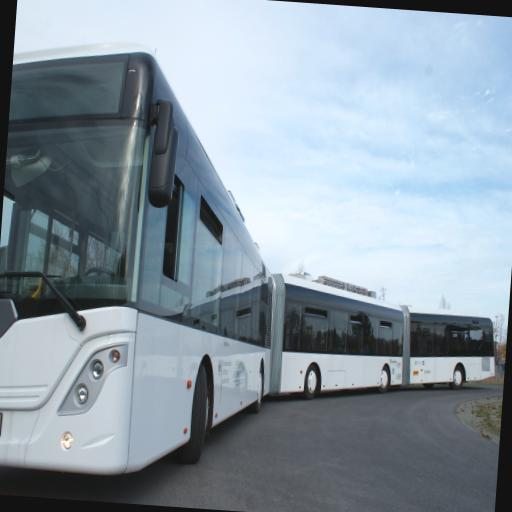bus: (0, 42, 288, 500), (269, 273, 495, 399), (270, 274, 495, 399)
